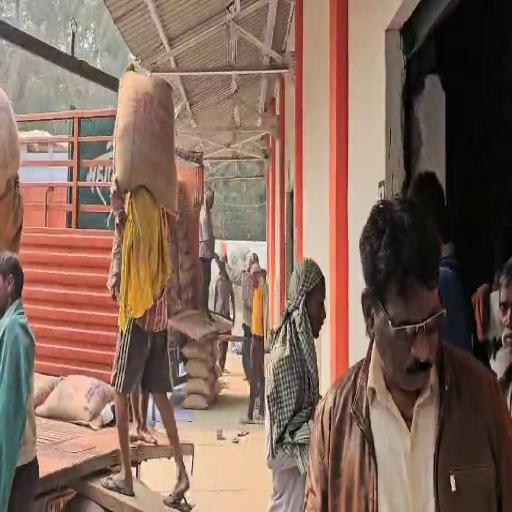bag: (112, 63, 182, 221)
